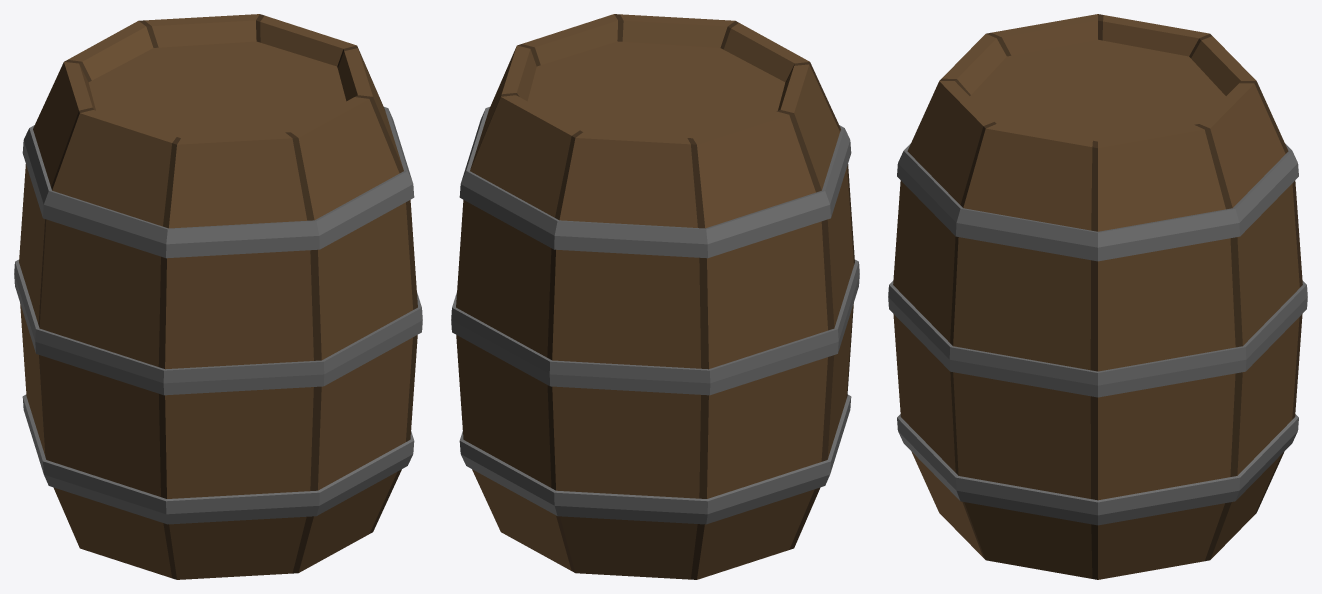
File: Barrel.fbx
3 views of the same model, side by side, from view 1: azimuth 30°, elevation 25°; view 2: azimuth 150°, elevation 25°; view 3: azimuth 270°, elevation 25° (orthographic).
Parts seen in each view (by area): view 1: Barril; view 2: Barril; view 3: Barril.
Part boxes in pixels (x1=…): Barril: x1=14, y1=14, x2=422, y2=579; Barril: x1=451, y1=14, x2=859, y2=579; Barril: x1=888, y1=14, x2=1307, y2=579.
Size of the model in its own units: 156 by 177 by 156.
